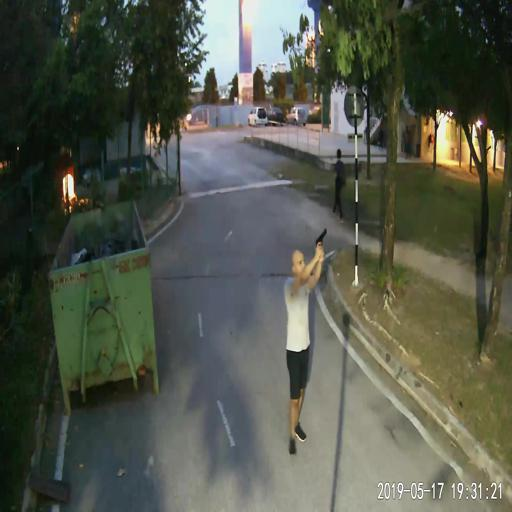Handgun: (314, 227, 325, 254)
